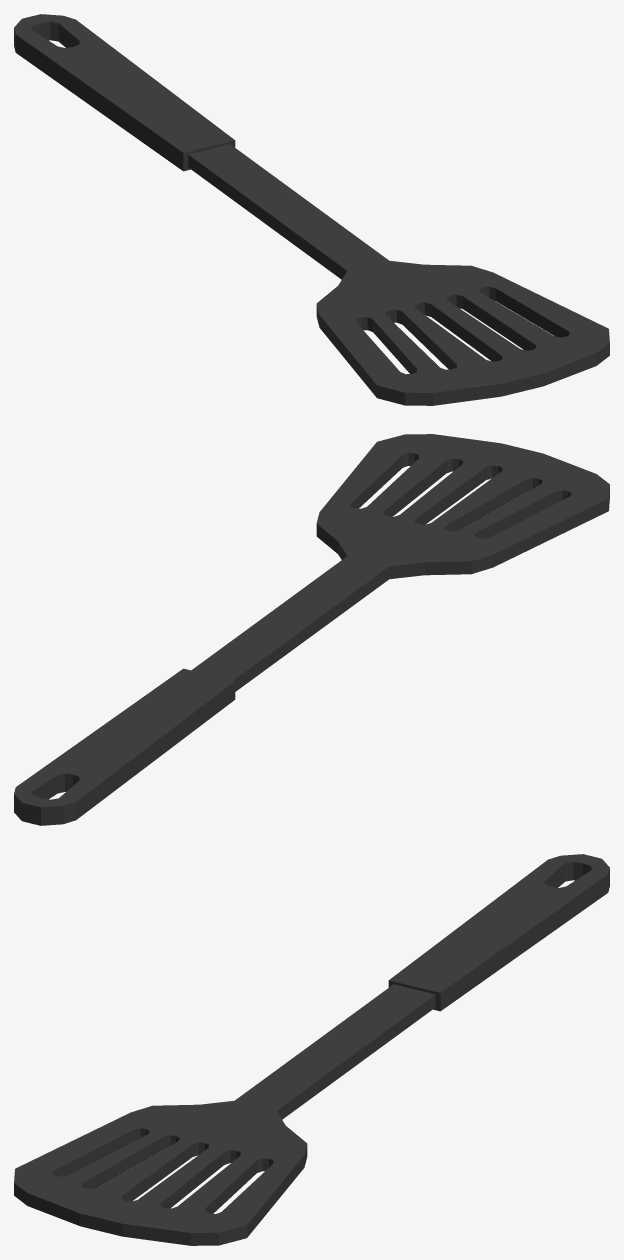
The model's file is Spatula_01.fbx.
3 views of the same model, one above another, from view 1: azimuth 30°, elevation 25°; view 2: azimuth 150°, elevation 25°; view 3: azimuth 330°, elevation 25° (orthographic).
Parts seen in each view (by area): view 1: Spatula_01; view 2: Spatula_01; view 3: Spatula_01.
Boxes of the visible parts, <box> form: Spatula_01: <box>14,14,609,405</box>; Spatula_01: <box>14,434,609,825</box>; Spatula_01: <box>14,854,609,1245</box>.
Bounding box in the file's own units: 0.098 × 0.00746 × 0.3594.
